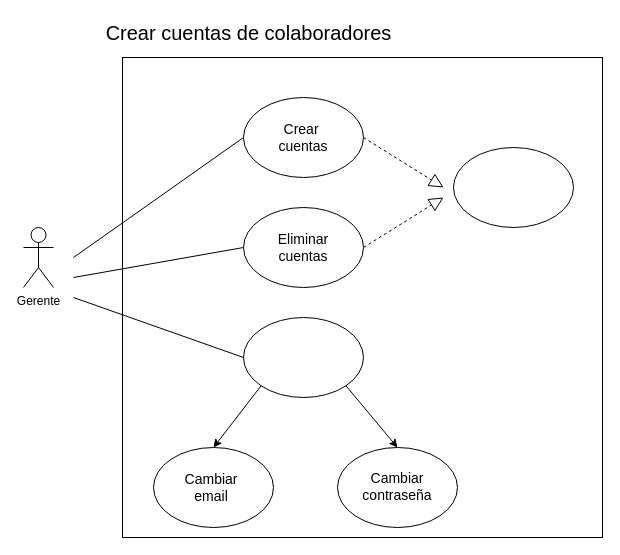
The diagram is 620 pixels wide and 555 high, and some of its shapes have lost their labels. Here are the shapes that lost their labels. From the top down, the centre of each, then its label:
At point 513,187: "Login".
At point 303,357: "Modificar cuentas de usuario".
